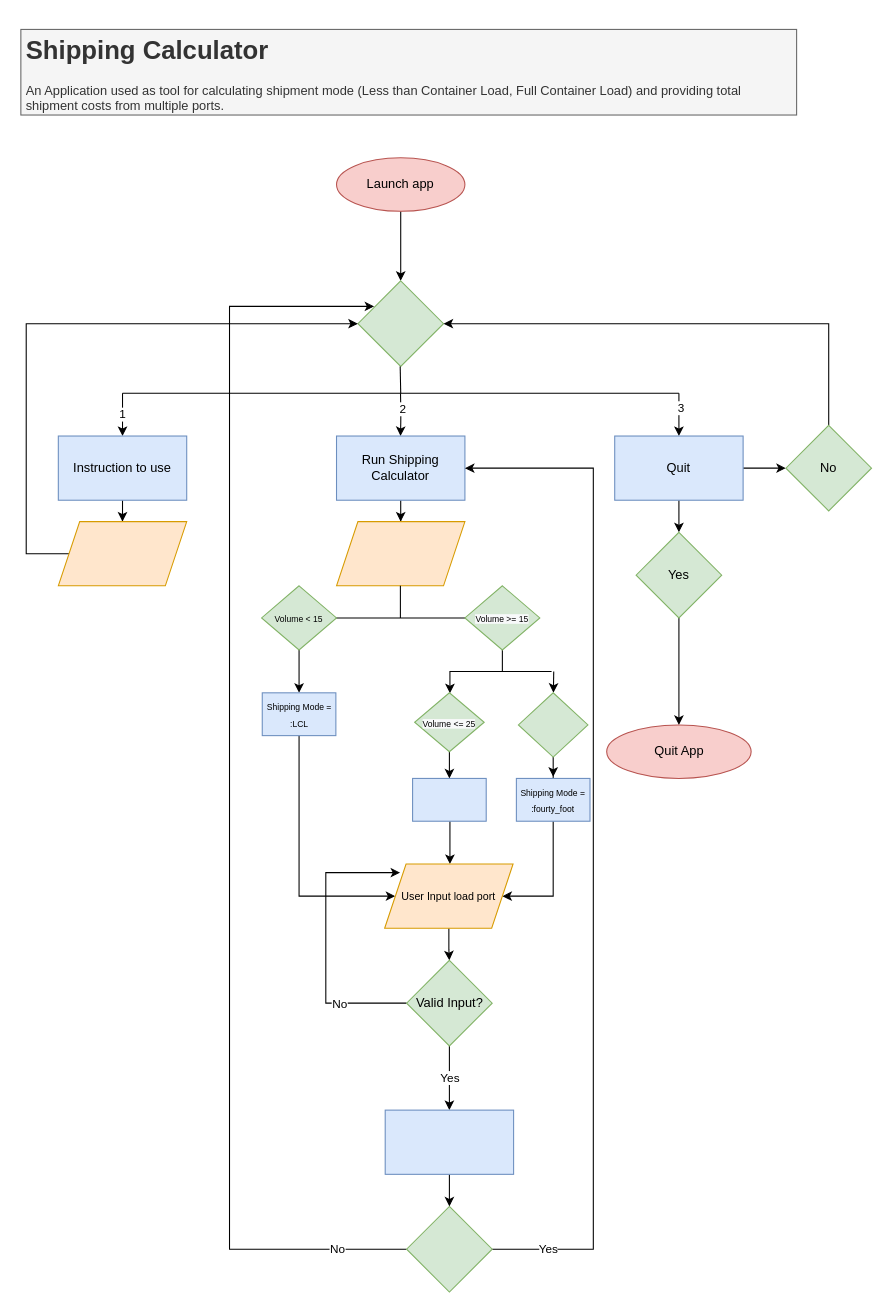
This 890x1311 diagram has some shape labels left out. The centre of each missing label's shape, as x and y in pixels:
"Display Total Cost" belongs at (449,1141).
"Do another Calculation?" belongs at (449,1248).
"Menu options" belongs at (400,323).
"Return to main menu" belongs at (122,553).
"Shipping Mode = :tenwty_foot" belongs at (449,799).
"User inputs Cargo Volume" belongs at (400,553).
"Volume <= 50" belongs at (552,724).
